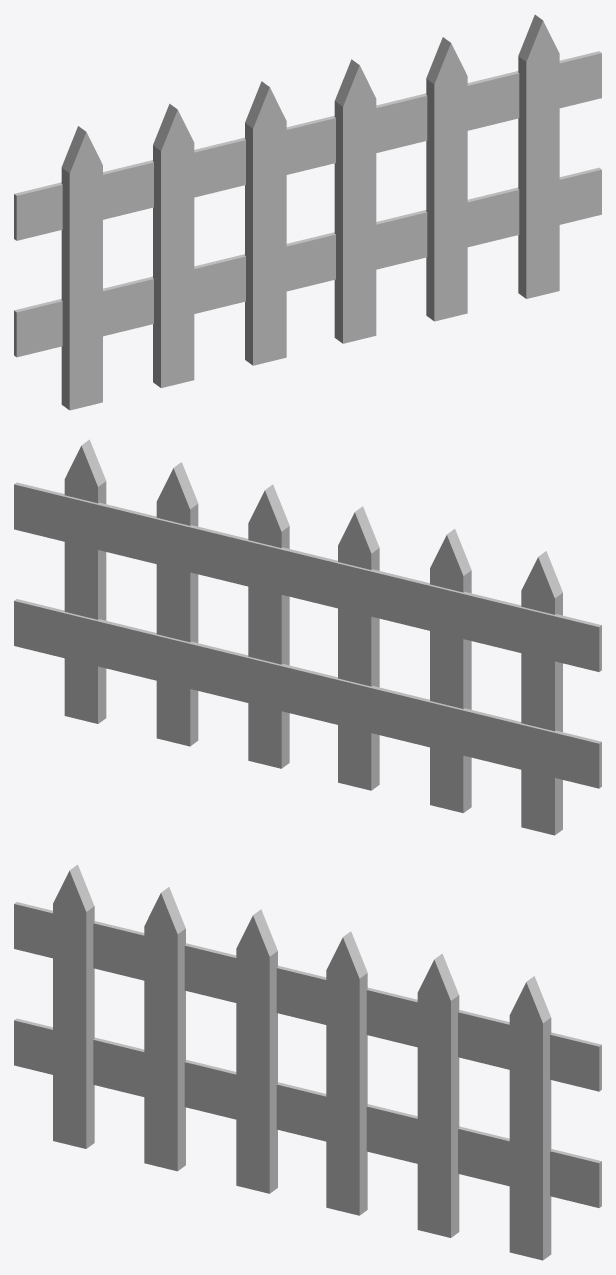
File: Cerca.fbx
The picture shows the model from 3 angles, top to bottom: view 1: azimuth 30°, elevation 25°; view 2: azimuth 150°, elevation 25°; view 3: azimuth 330°, elevation 25°; orthographic projection.
Parts seen in each view (by area): view 1: Cerca; view 2: Cerca; view 3: Cerca.
Boxes of the visible parts, box(x1,y1,x2,y2) form: Cerca: box(14, 15, 601, 410); Cerca: box(14, 439, 601, 835); Cerca: box(14, 864, 601, 1260).
Bounding box in the file's own units: 405 × 182 × 11.74.
